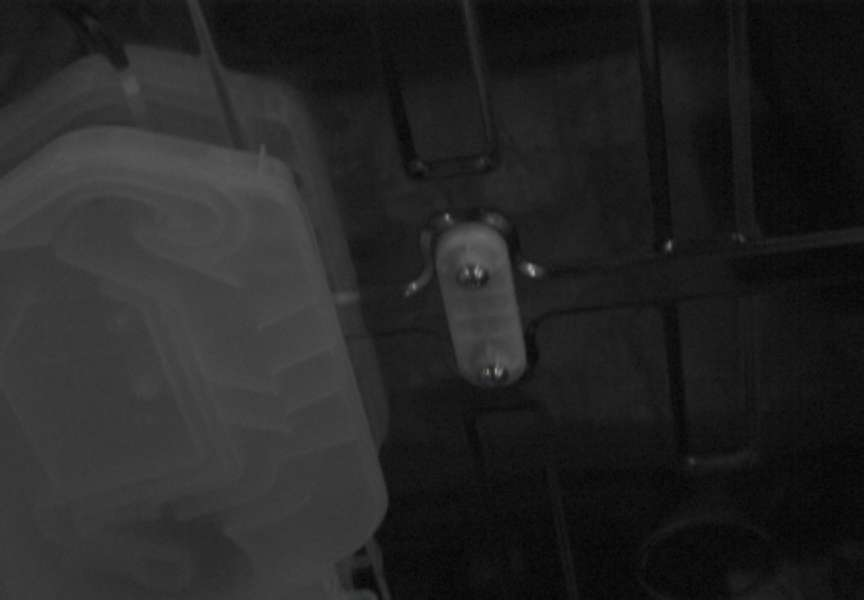screw: (457, 264, 490, 288), (479, 363, 509, 386)
